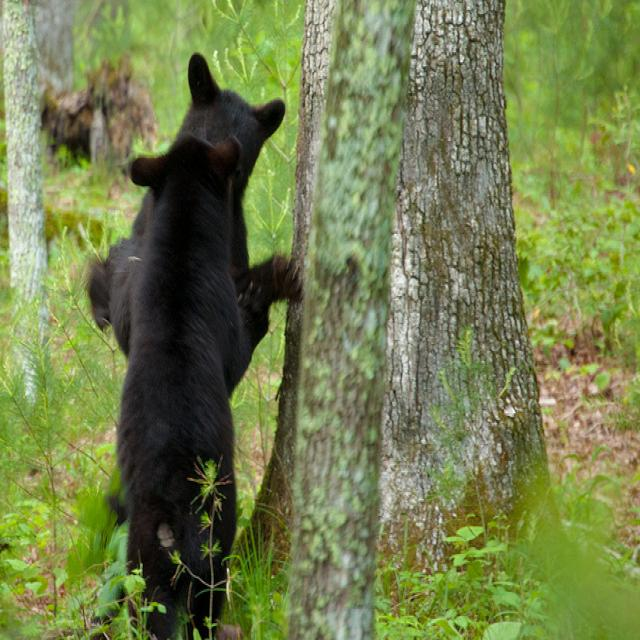Bear: (86, 58, 290, 626)
